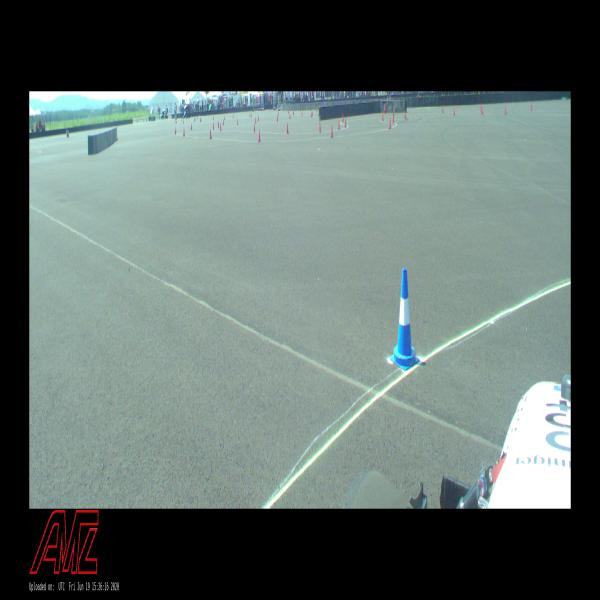blue_cone: (390, 268, 419, 371)
unknown_cone: (330, 124, 334, 138), (258, 130, 261, 142), (344, 118, 347, 127), (504, 106, 507, 114), (381, 112, 384, 120), (389, 118, 391, 129), (384, 103, 386, 114), (338, 119, 340, 130), (287, 123, 289, 134), (210, 129, 212, 139), (319, 122, 321, 132), (254, 122, 256, 132), (392, 113, 394, 122), (342, 113, 344, 122), (453, 107, 455, 115), (184, 128, 186, 136), (175, 127, 177, 135), (404, 110, 406, 118), (220, 123, 222, 131), (212, 122, 214, 130), (442, 106, 444, 112), (481, 108, 483, 114), (255, 117, 257, 123), (531, 103, 532, 111), (393, 108, 394, 116), (191, 123, 192, 130), (237, 119, 238, 125)
